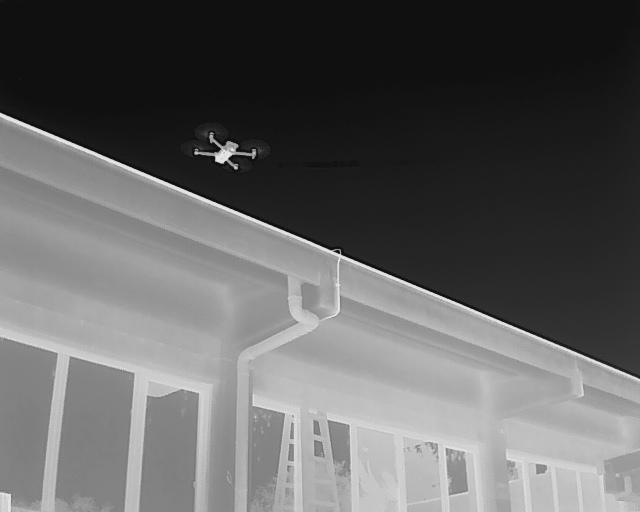drone: (174, 115, 271, 186)
